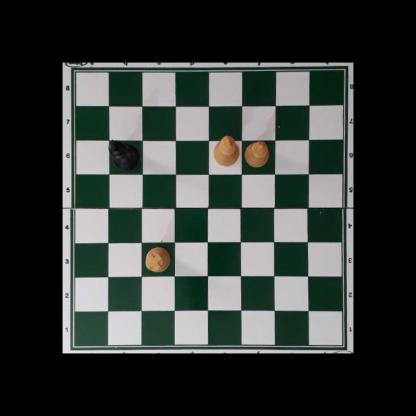black-king: (109, 141, 139, 169)
white-bishop: (244, 140, 268, 166)
white-king: (213, 135, 240, 167)
white-rook: (144, 247, 170, 272)
